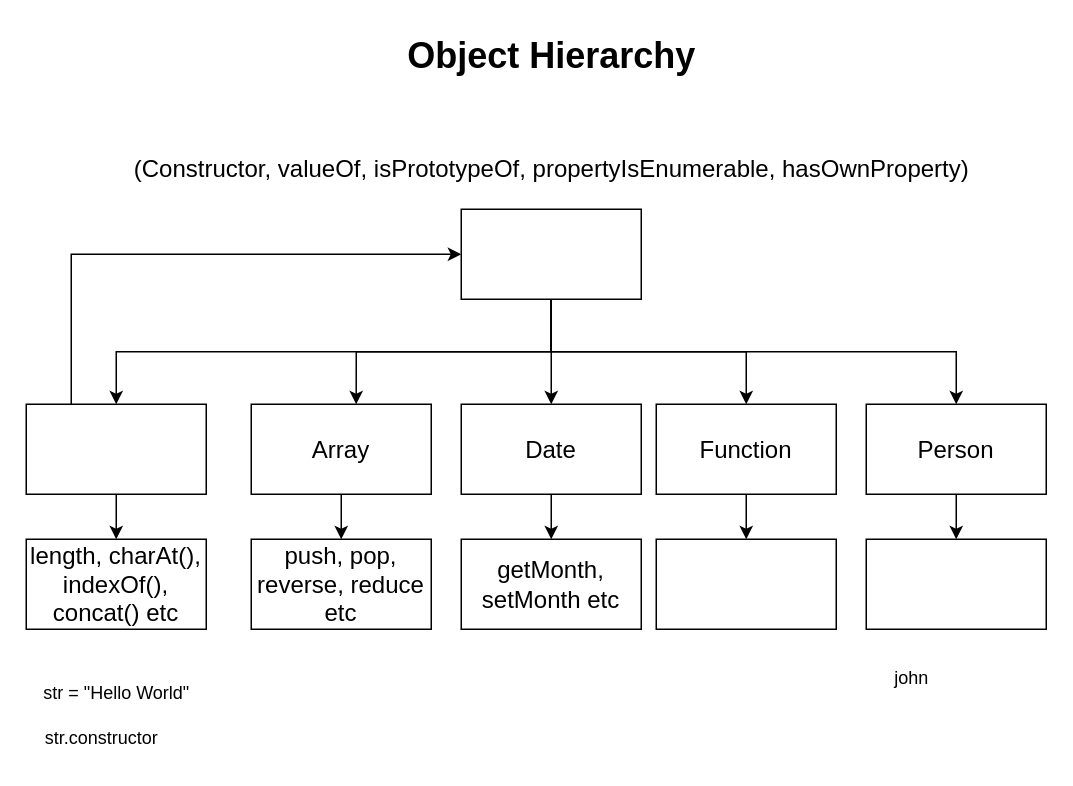
This 1073x786 diagram has some shape labels left out. The shapes that lost their labels are listed below. From the top down, each one's centre as x and y in pixels, then its label:
At point (550, 253): "Object".
At point (115, 448): "String".
At point (745, 583): "name, call, bind, apply".
At point (955, 583): "firstName, lastName, getFullname()".
